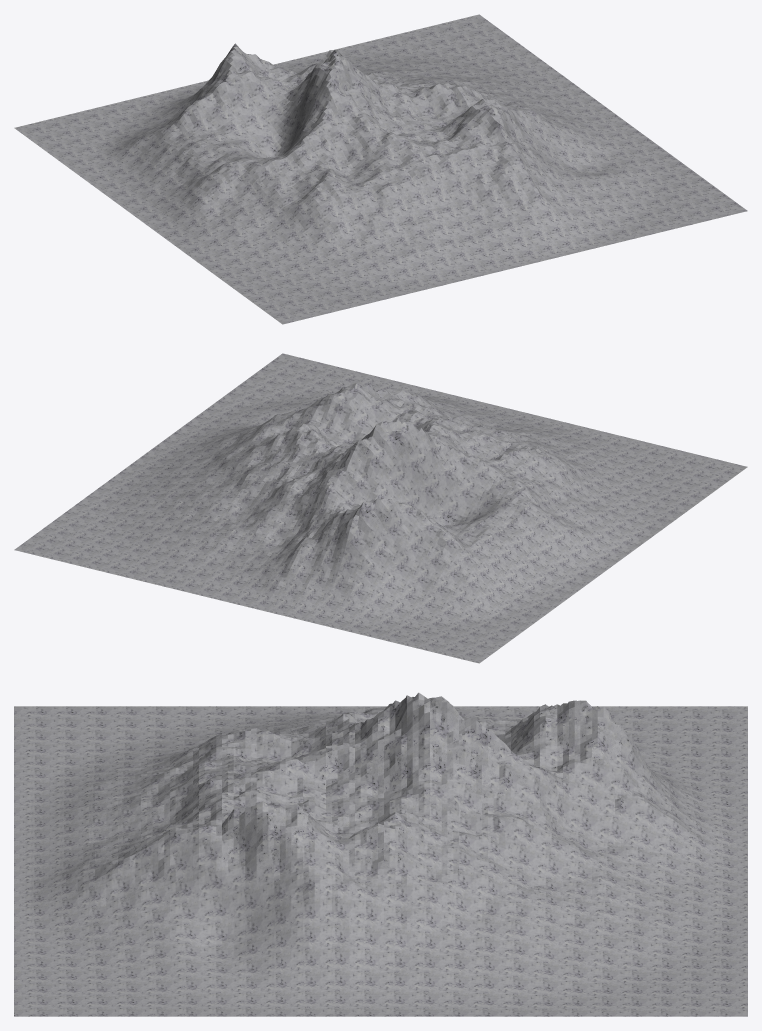
File: Mountain.fbx
The picture shows the model from 3 angles, top to bottom: view 1: azimuth 30°, elevation 25°; view 2: azimuth 150°, elevation 25°; view 3: azimuth 270°, elevation 25°; orthographic projection. The views are drawn at different scales.
Visible parts, largest first — view 1: Landscape; view 2: Landscape; view 3: Landscape.
Boxes of the visible parts, left/top/right/bottom form: Landscape: left=14, top=14, right=747, bottom=324; Landscape: left=14, top=353, right=747, bottom=663; Landscape: left=14, top=692, right=747, bottom=1016.
Bounding box in the file's own units: 200 × 44.9 × 200.
Materials: 1 (1 with a texture image).
